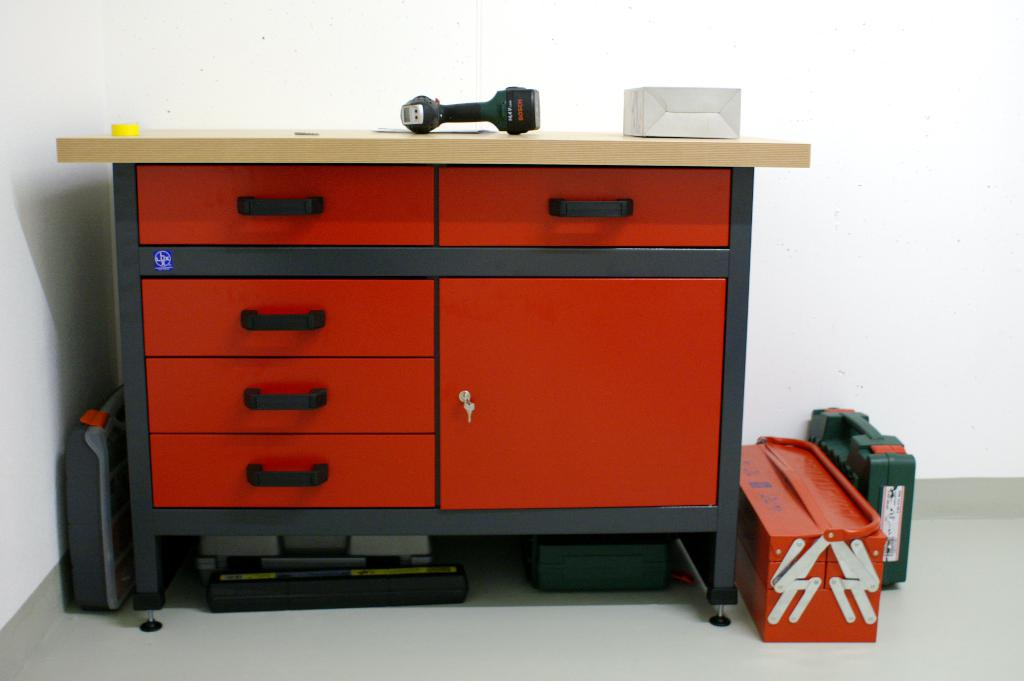cabinet door: (440, 279, 718, 506), (138, 166, 438, 242), (442, 167, 732, 245), (151, 432, 438, 507), (142, 281, 436, 354), (148, 358, 438, 429)
handle: (541, 192, 638, 221), (238, 306, 329, 335), (233, 190, 326, 218), (244, 383, 327, 414), (243, 462, 330, 486)
